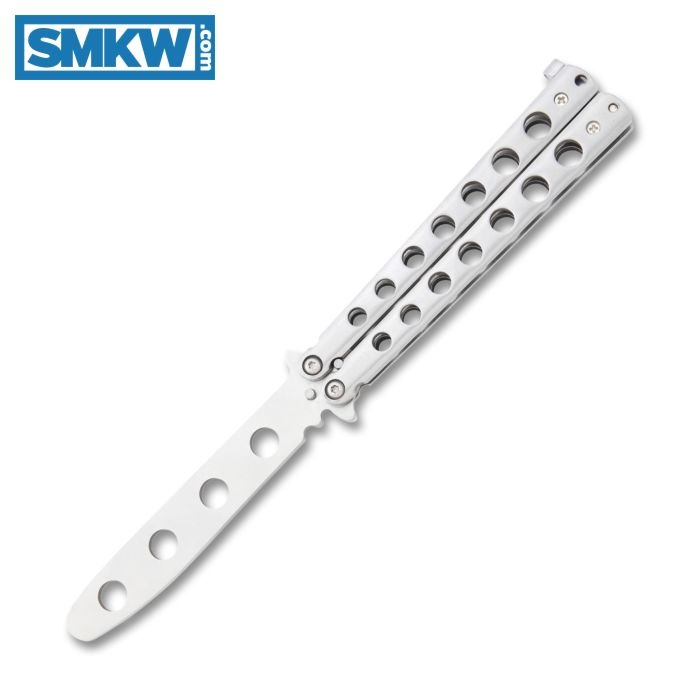knife: (59, 56, 649, 658)
